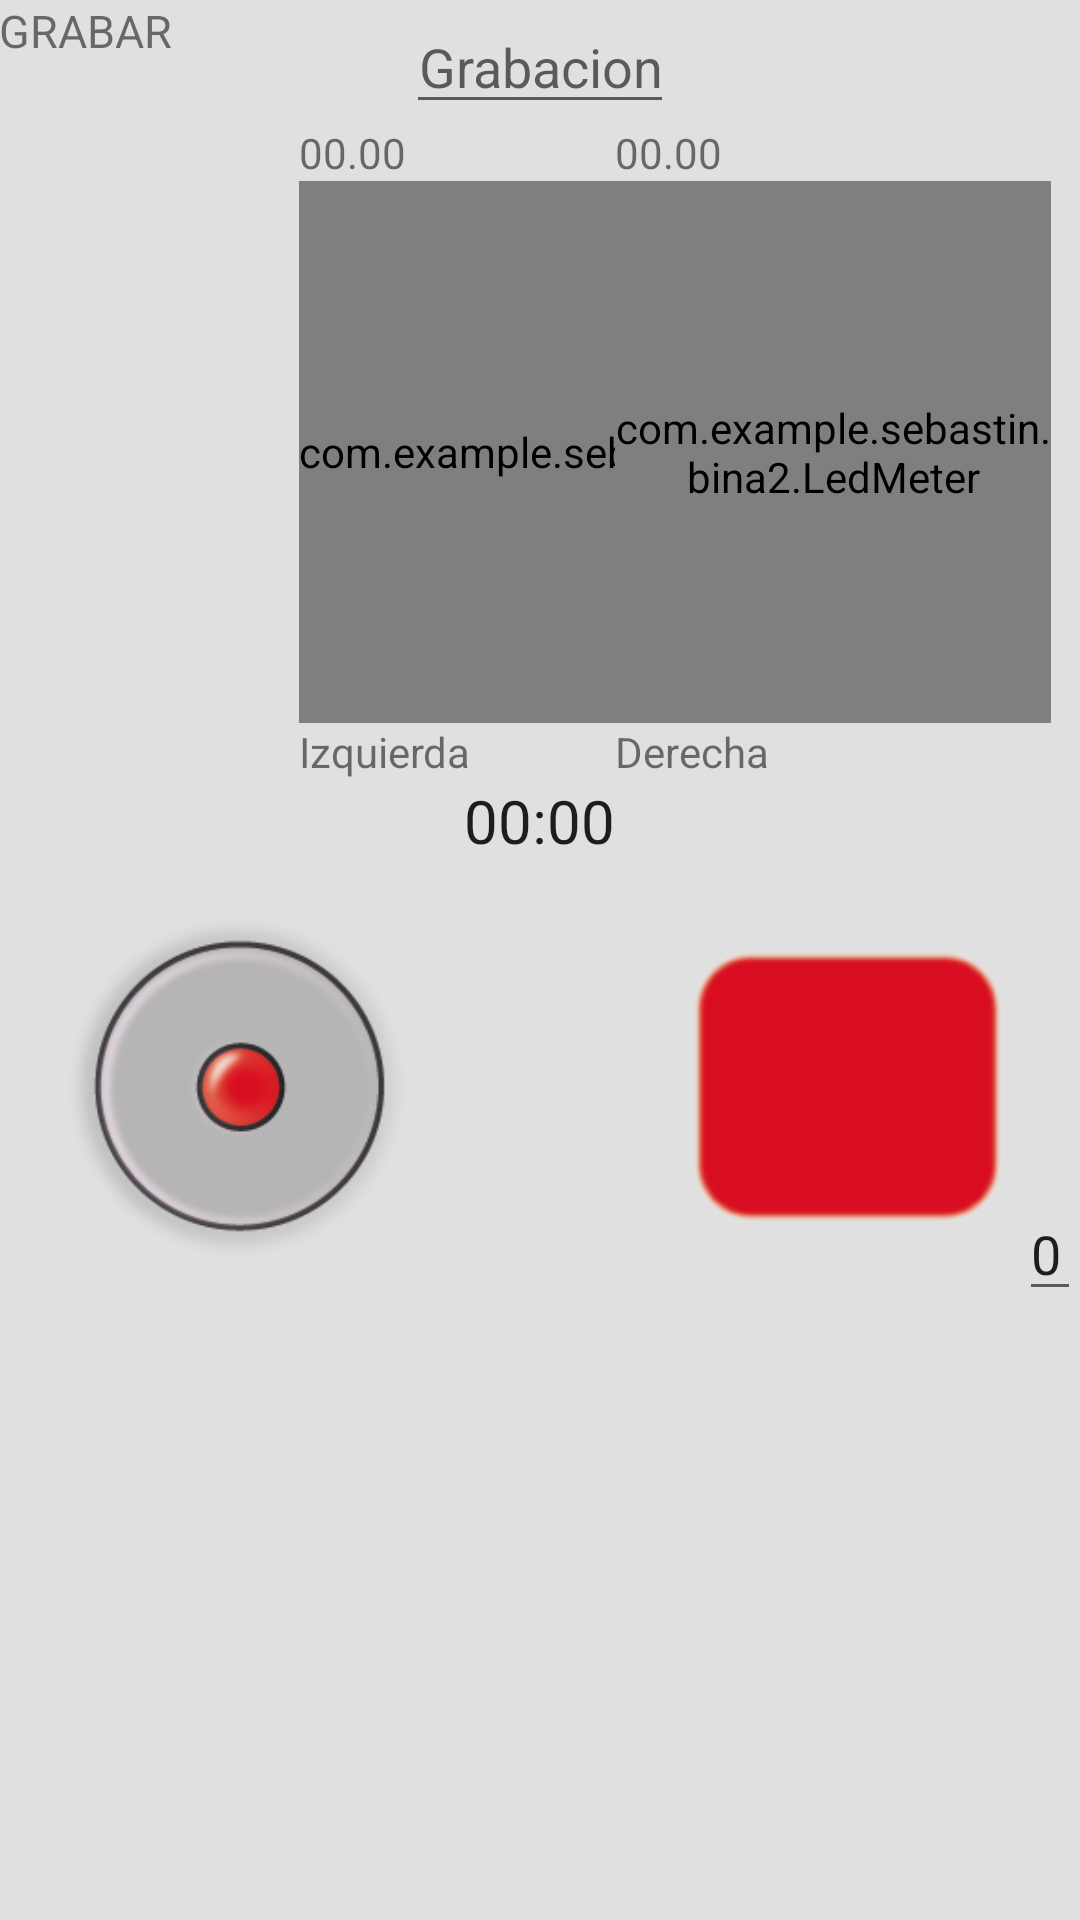

Screen size 1080 x 1920. Icon name, then its center in pixels as (x=x, y=y):
record: (x=235, y=1086)
